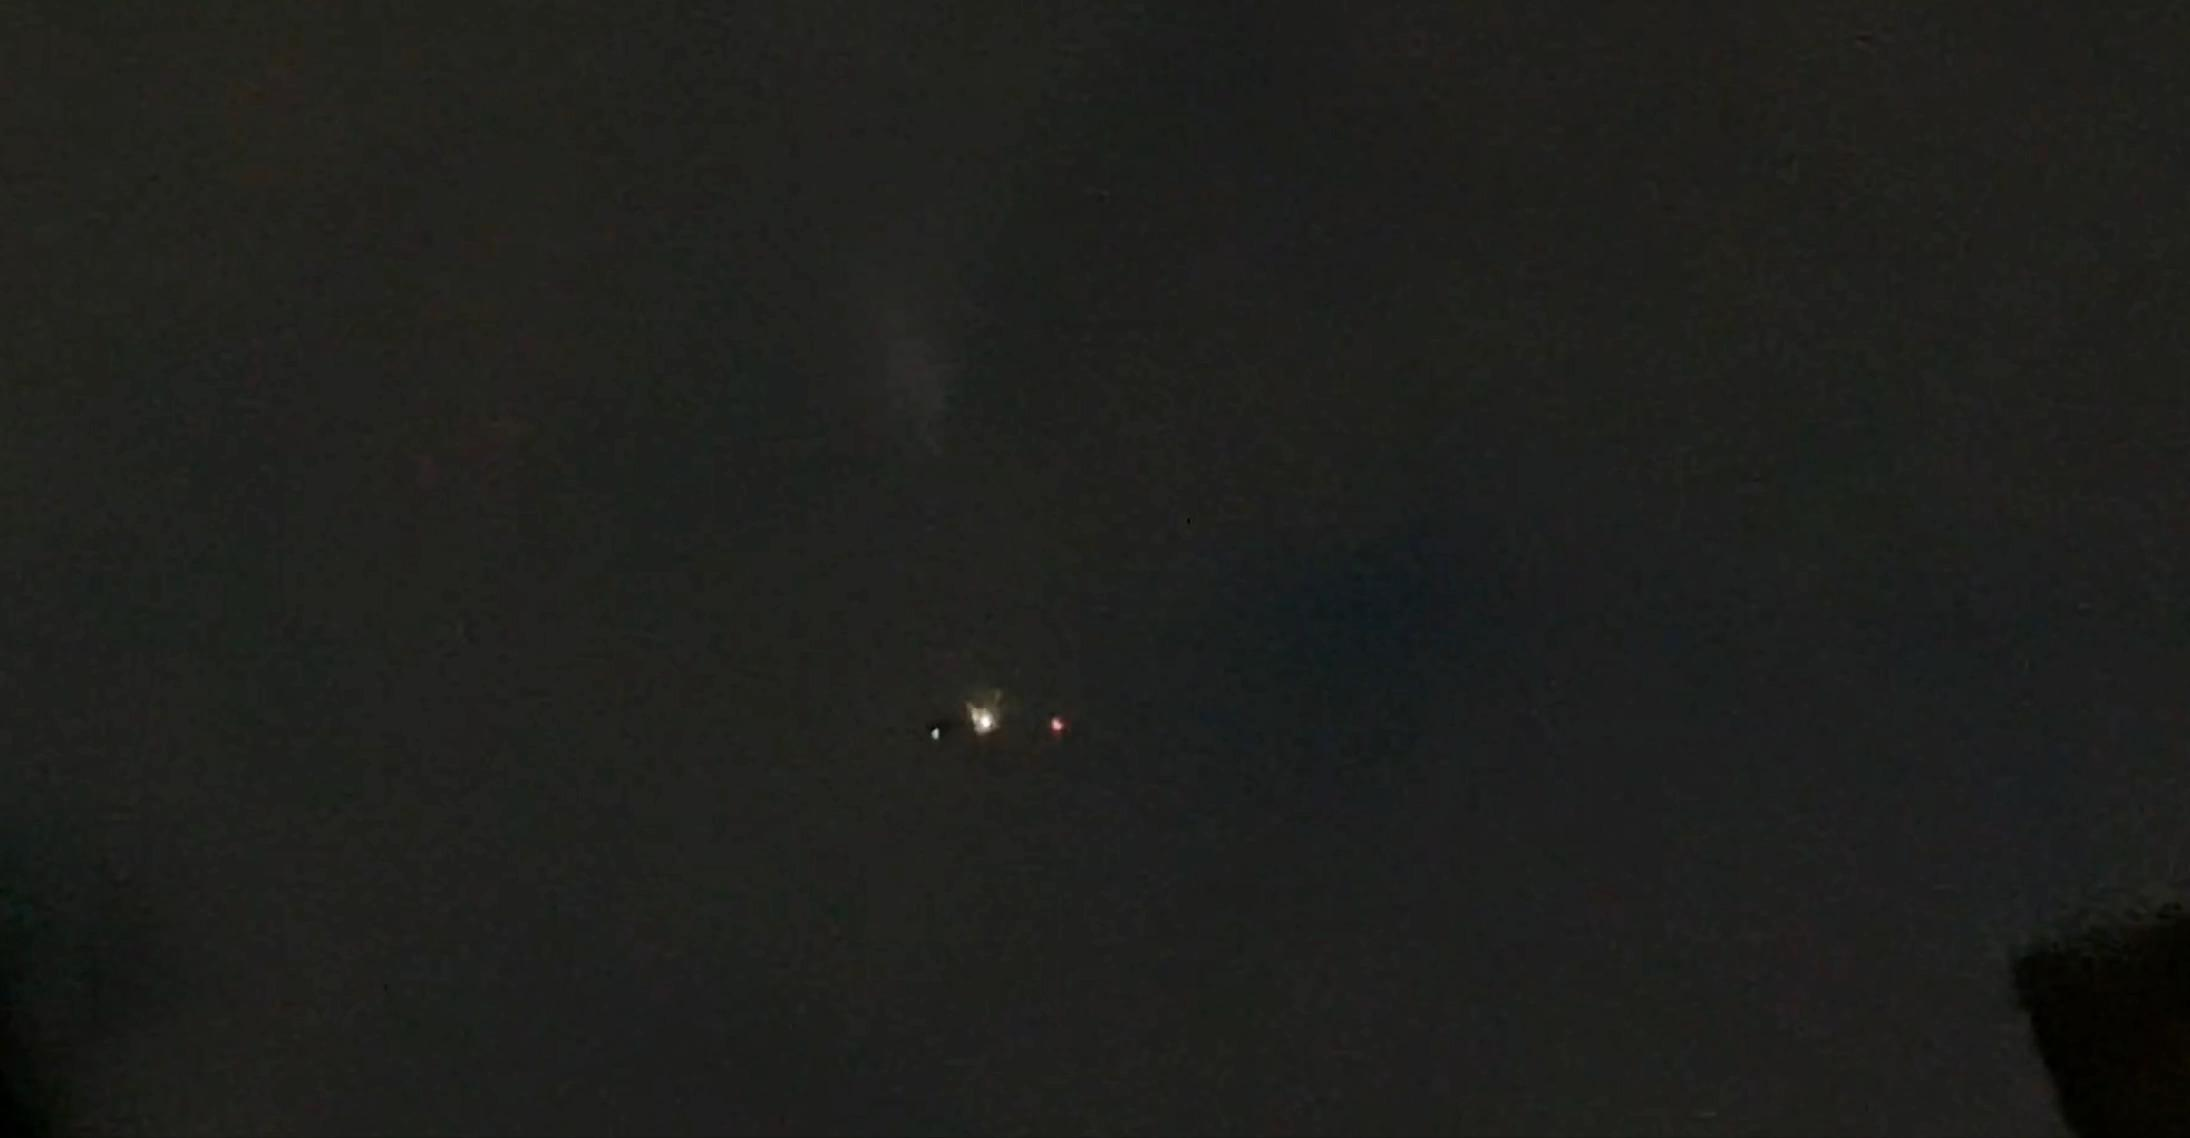Plane: (859, 675, 1133, 770)
